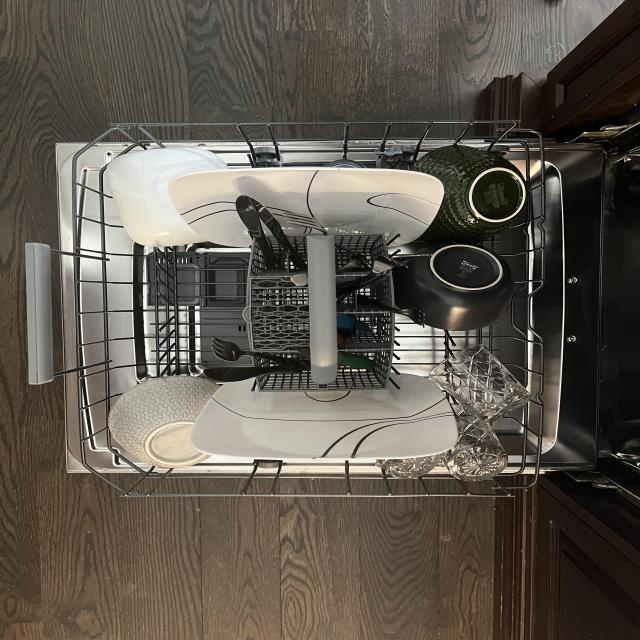Bowl: (397, 240, 513, 334), (244, 195, 307, 271), (236, 194, 280, 272), (202, 363, 302, 384)
Fork: (280, 209, 372, 268), (210, 333, 310, 372), (336, 254, 410, 300), (356, 292, 427, 330), (336, 256, 371, 272)
Glass: (428, 343, 530, 421), (439, 399, 509, 483)
Knife: (336, 313, 373, 333), (338, 352, 374, 369)
Plate: (188, 364, 461, 460), (168, 167, 445, 249)
